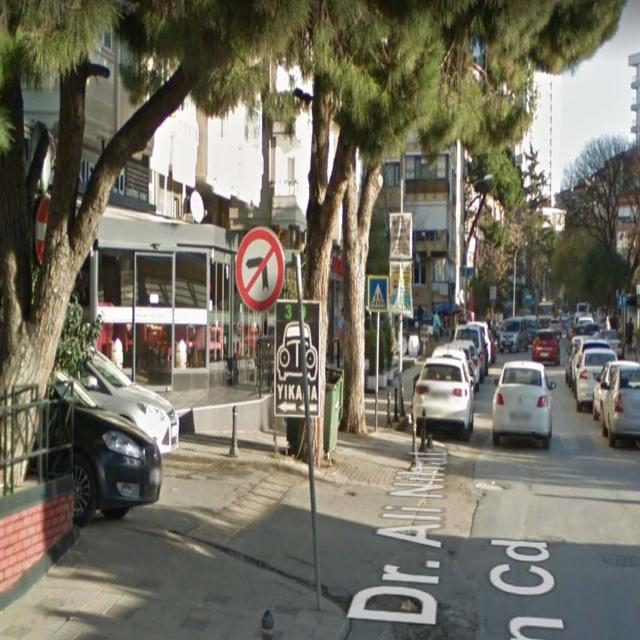soladonulmez: (235, 228, 282, 311)
